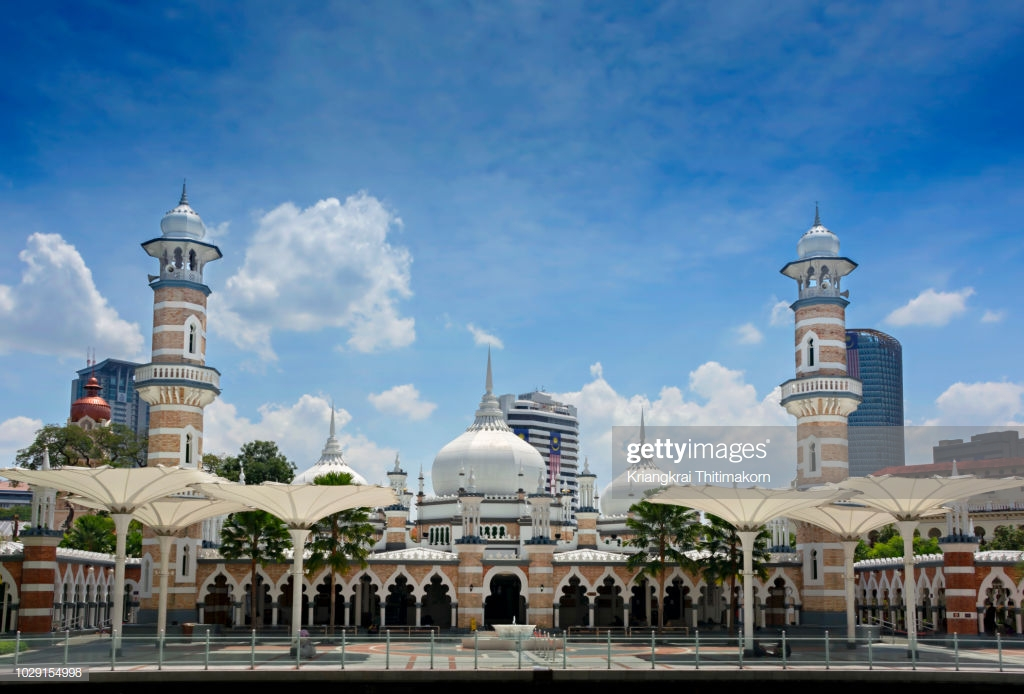Mosque: (72, 180, 855, 539)
